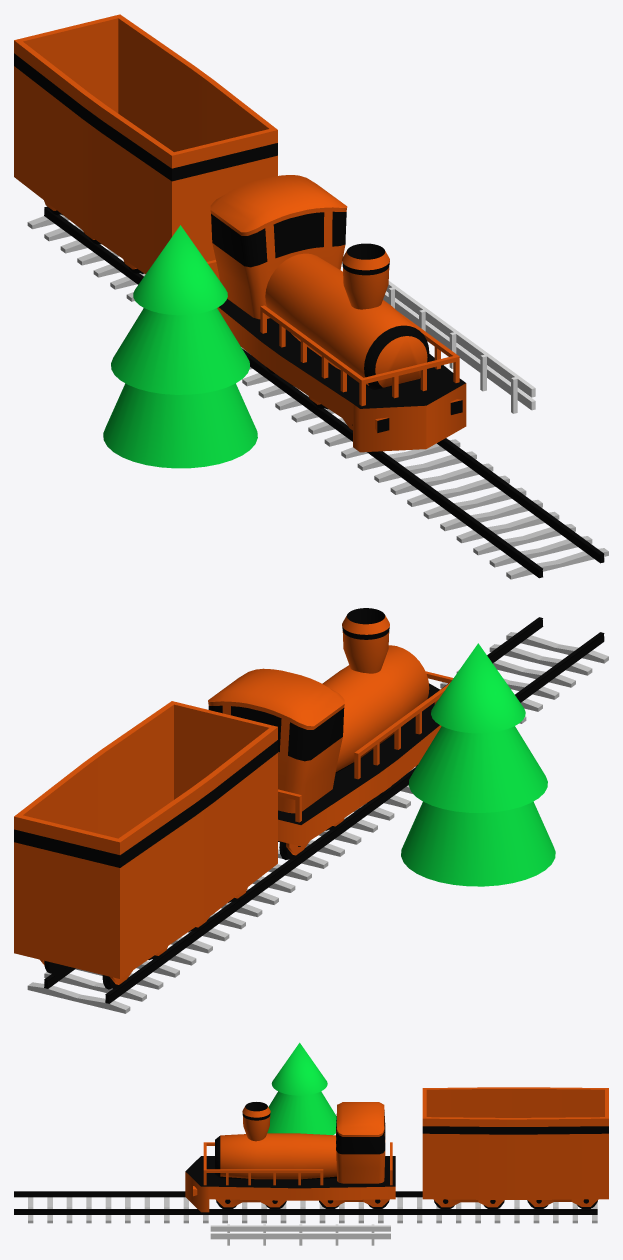
File: trainfbx.fbx
The picture shows the model from 3 angles, top to bottom: view 1: azimuth 30°, elevation 25°; view 2: azimuth 150°, elevation 25°; view 3: azimuth 270°, elevation 25°; orthographic projection. The views are drawn at different scales.
Parts seen in each view (by area): view 1: Vagon, Train, Tree, Rails, Fence; view 2: Vagon, Train, Tree, Rails, VChasisRear; view 3: Vagon, Train, Rails, Tree, Fence, VChasisFront, TChasisFront, VChasisRear, TChasisRear.
Part boxes in pixels (x1=…): Vagon: x1=14, y1=14, x2=277, y2=280; Train: x1=207, y1=175, x2=466, y2=452; Tree: x1=103, y1=225, x2=257, y2=468; Rails: x1=27, y1=206, x2=608, y2=579; Fence: x1=383, y1=281, x2=535, y2=413; Vagon: x1=14, y1=701, x2=277, y2=978; Train: x1=208, y1=608, x2=453, y2=846; Tree: x1=401, y1=643, x2=555, y2=886; Rails: x1=27, y1=617, x2=608, y2=1013; VChasisRear: x1=40, y1=946, x2=167, y2=989; Vagon: x1=422, y1=1087, x2=608, y2=1199; Train: x1=185, y1=1102, x2=395, y2=1212; Rails: x1=14, y1=1191, x2=597, y2=1223; Tree: x1=267, y1=1042, x2=336, y2=1134; Fence: x1=210, y1=1224, x2=390, y2=1245; VChasisFront: x1=433, y1=1199, x2=504, y2=1209; TChasisFront: x1=215, y1=1199, x2=286, y2=1209; VChasisRear: x1=527, y1=1199, x2=598, y2=1209; TChasisRear: x1=319, y1=1199, x2=389, y2=1209.
Size of what is drawn, in the model's own units: 849 by 493 by 2141.
